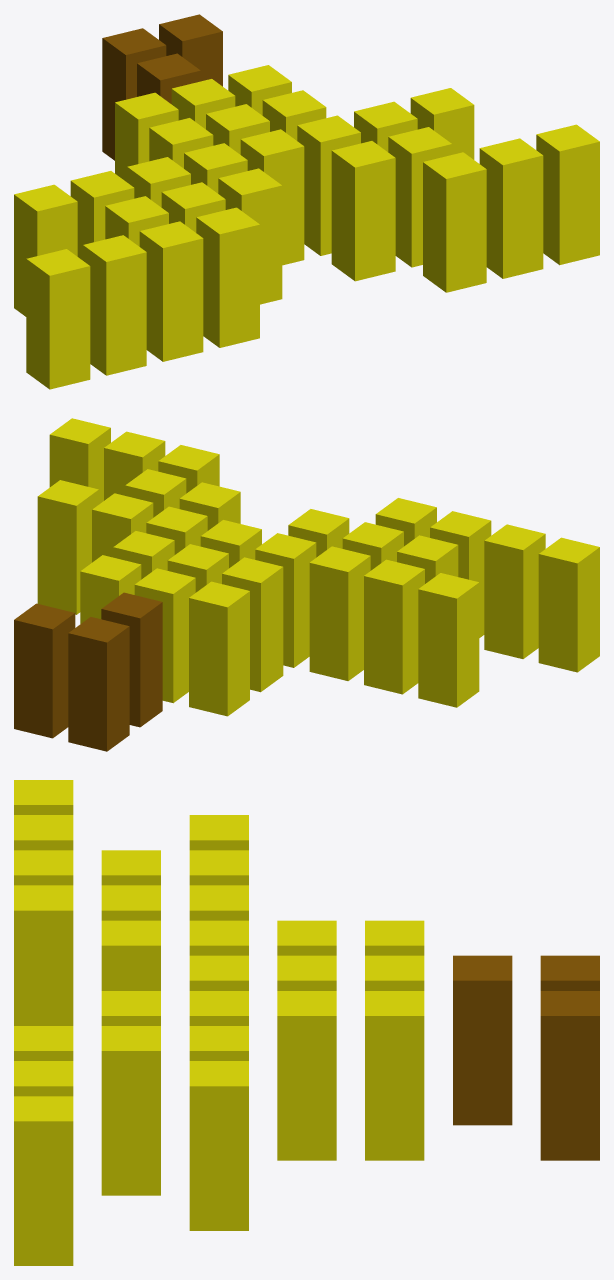
Rendered from BananaMesh.fbx.
3 views of the same model, one above another, from view 1: azimuth 30°, elevation 25°; view 2: azimuth 150°, elevation 25°; view 3: azimuth 270°, elevation 25° (orthographic). The views are drawn at different scales.
Parts seen in each view (by area): view 1: BananaMesh; view 2: BananaMesh; view 3: BananaMesh.
Part boxes in pixels (x1,y1,x2,y2): BananaMesh: (14, 14, 599, 389); BananaMesh: (14, 418, 599, 751); BananaMesh: (14, 780, 599, 1265).
Bounding box in the file's own units: 42.79 × 8.45 × 31.04.
